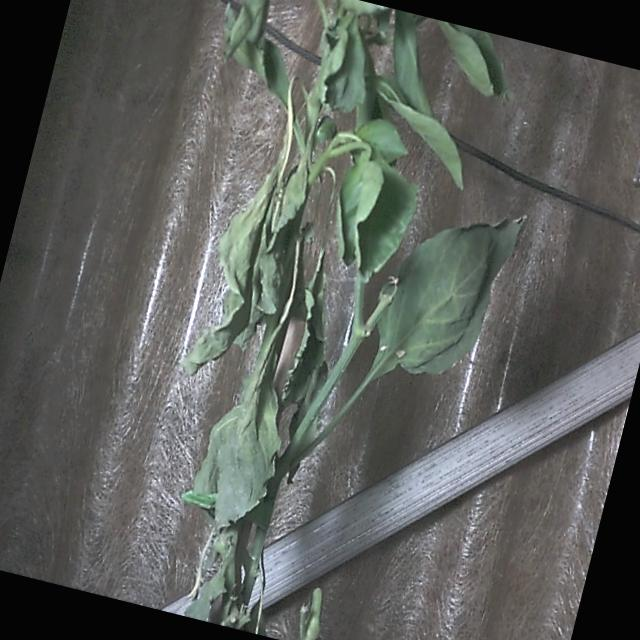Leaf: (362, 188, 522, 397), (198, 334, 304, 536), (335, 144, 424, 286)
